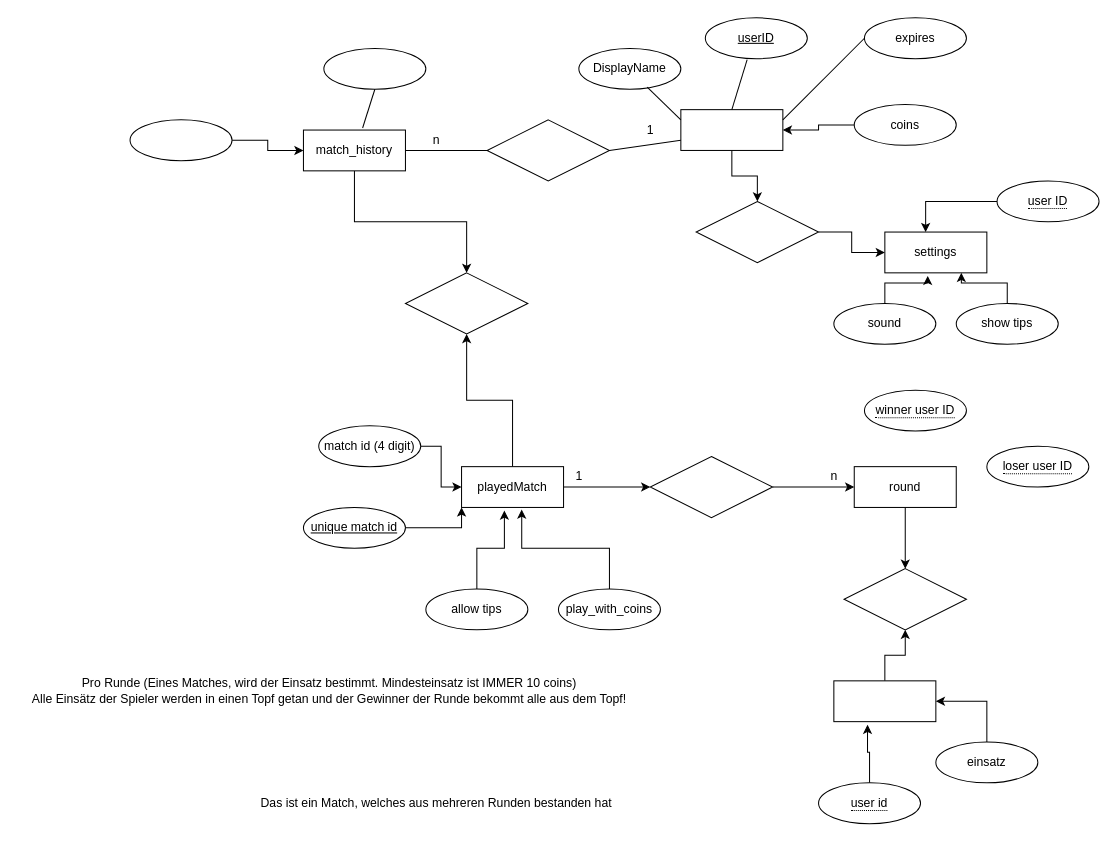
This 1117x842 diagram has some shape labels left out. Each missing label, with the centre of its shape:
"has" goes at point (757, 231).
"has played" goes at point (547, 150).
"is" goes at point (466, 303).
"multiple rounds" goes at point (711, 486).
"players" goes at point (904, 599).
"round member" goes at point (884, 701).
"total coin change" goes at point (180, 140).
"unique_match_id" goes at point (374, 68).
"user" goes at point (731, 129).
